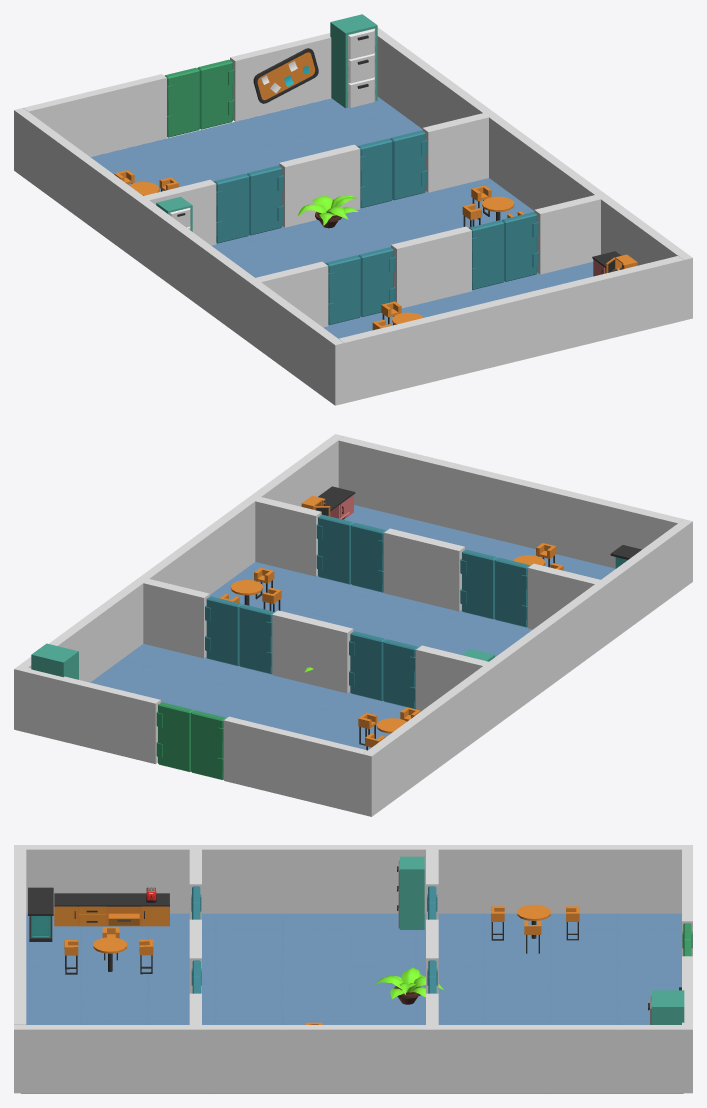
File: maps_02.fbx
The picture shows the model from 3 angles, top to bottom: view 1: azimuth 30°, elevation 25°; view 2: azimuth 150°, elevation 25°; view 3: azimuth 270°, elevation 25°; orthographic projection. The views are drawn at different scales.
Visible parts, largest first — view 1: polySurface188, polySurface175, polySurface178, polySurface176, polySurface6 (×5), polySurface2 (×5), polySurface185, polySurface189, polySurface184, polySurface181, polySurface187, polySurface191 (+6 smaller); view 2: polySurface188, polySurface175, polySurface178, polySurface176, polySurface6 (×5), polySurface2 (×5), polySurface185, polySurface184, polySurface181, polySurface189, polySurface187, polySurface191 (+4 smaller); view 3: polySurface188, polySurface176, polySurface175, polySurface99, polySurface178, wardrobe01_geo, polySurface117, wardrobe02_geo, brush_geo, polySurface185, polySurface181, polySurface184 (+7 smaller).
Boxes of the visible parts, box(x1,y1,x2,y2) form: polySurface188: box(90, 97, 593, 338); polySurface175: box(14, 108, 344, 405); polySurface178: box(339, 256, 683, 403); polySurface176: box(377, 27, 692, 320); polySurface6 (×5): box(197, 59, 538, 316); polySurface2 (×5): box(165, 67, 504, 324); polySurface185: box(23, 74, 166, 156); polySurface189: box(391, 226, 471, 308); polySurface184: box(230, 33, 331, 121); polySurface181: box(279, 144, 360, 227); polySurface187: box(422, 113, 488, 192); polySurface191: box(534, 195, 600, 274); polySurface188: box(90, 505, 615, 749); polySurface175: box(362, 519, 692, 816); polySurface178: box(338, 436, 683, 568); polySurface176: box(14, 434, 343, 731); polySurface6 (×5): box(156, 514, 497, 771); polySurface2 (×5): box(191, 522, 529, 779); polySurface185: box(224, 716, 367, 814); polySurface184: box(23, 667, 160, 764); polySurface181: box(272, 610, 353, 693); polySurface189: box(384, 528, 464, 611); polySurface187: box(143, 579, 209, 658); polySurface191: box(255, 497, 321, 576); polySurface188: box(21, 913, 683, 1093); polySurface176: box(14, 1025, 692, 1093); polySurface175: box(14, 845, 692, 913); polySurface99: box(54, 893, 169, 926); polySurface178: box(14, 849, 26, 1024); wardrobe01_geo: box(397, 856, 424, 929); polySurface117: box(28, 887, 53, 941); wardrobe02_geo: box(648, 990, 684, 1024); brush_geo: box(374, 967, 443, 1004); polySurface185: box(682, 849, 692, 956); polySurface181: box(426, 919, 438, 993); polySurface184: box(682, 956, 692, 1024).
Size of what is drawn, in the model's own units: 54.88 by 11.37 by 85.35.
Materials: 10 (10 with a texture image).
